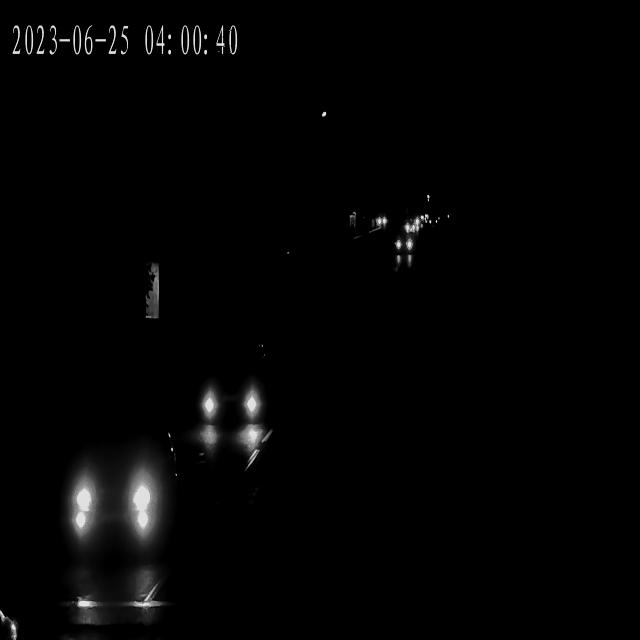Car: (59, 422, 174, 548), (191, 362, 264, 428), (393, 237, 414, 259), (394, 235, 416, 256), (373, 213, 388, 228), (402, 219, 416, 234), (404, 220, 419, 233)
